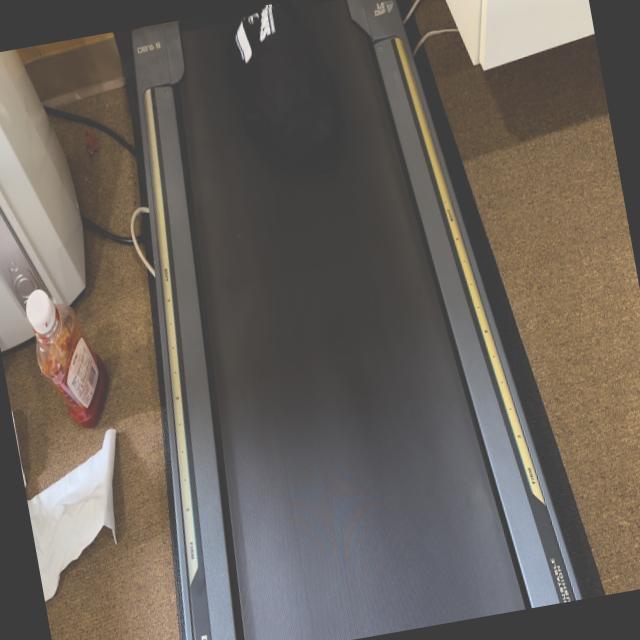Trash: (214, 0, 307, 85)
